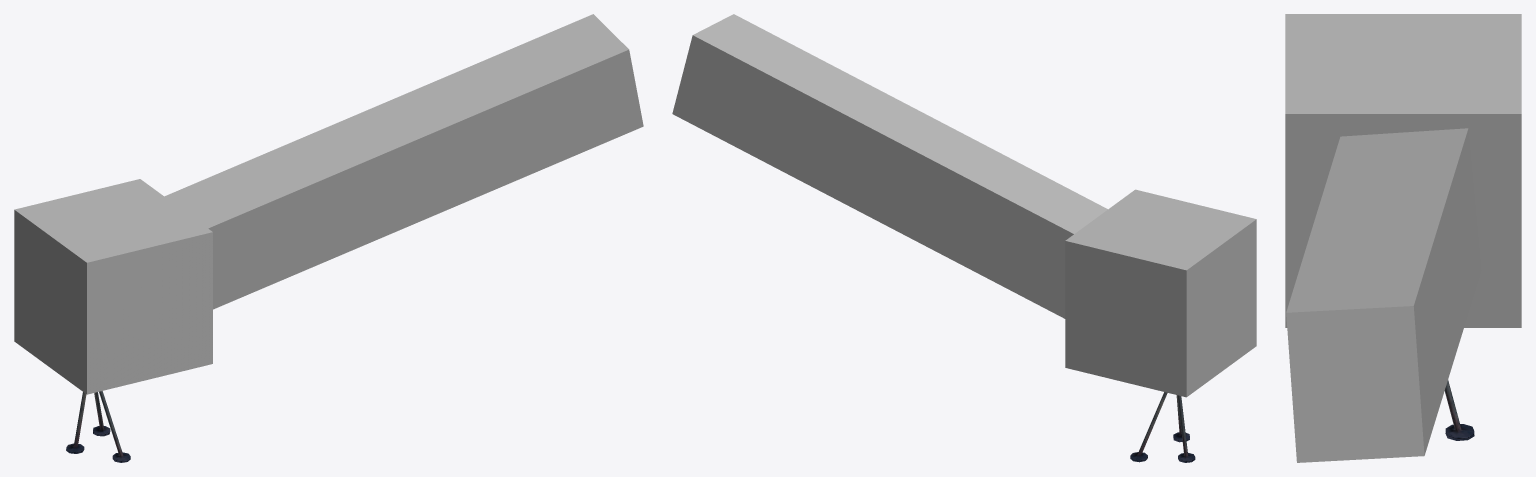
File: lamp_cave_spotlight.dae
3 views of the same model, side by side, from view 1: azimuth 30°, elevation 25°; view 2: azimuth 150°, elevation 25°; view 3: azimuth 270°, elevation 25° (orthographic). The views are drawn at different scales.
Visible parts, largest first — view 1: _bb_white_lightray2_halo01, _bb_light_white_halo02_noparent_halo02, lamp; view 2: _bb_white_lightray2_halo01, _bb_light_white_halo02_noparent_halo02, lamp; view 3: _bb_white_lightray2_halo01, _bb_light_white_halo02_noparent_halo02, lamp.
Boxes of the visible parts, x1,y1,x2,y2 form: _bb_white_lightray2_halo01: (164,14,643,309); _bb_light_white_halo02_noparent_halo02: (14,179,212,394); lamp: (66,391,130,462); _bb_white_lightray2_halo01: (672,14,1107,318); _bb_light_white_halo02_noparent_halo02: (1065,189,1256,397); lamp: (1130,392,1195,462); _bb_white_lightray2_halo01: (1286,128,1481,462); _bb_light_white_halo02_noparent_halo02: (1285,14,1521,327); lamp: (1444,380,1474,440).
Size of what is drawn, in the model's own units: 8.15 by 4.32 by 1.82.
